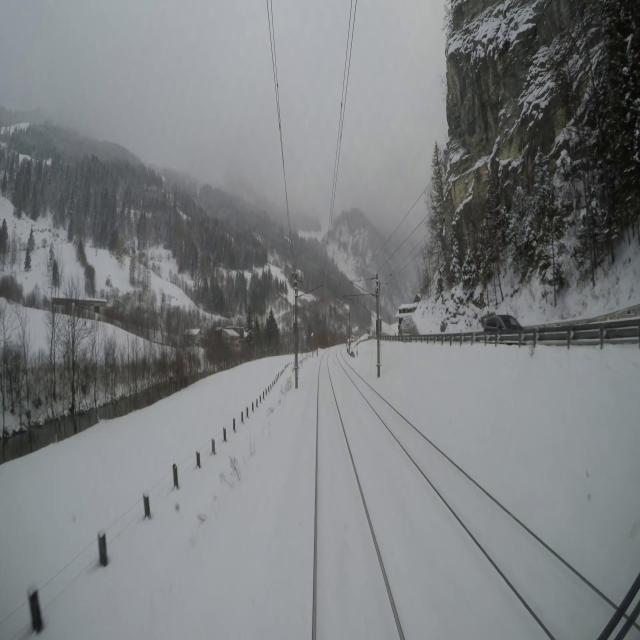rail-track: (338, 350, 615, 639), (317, 353, 399, 639)
